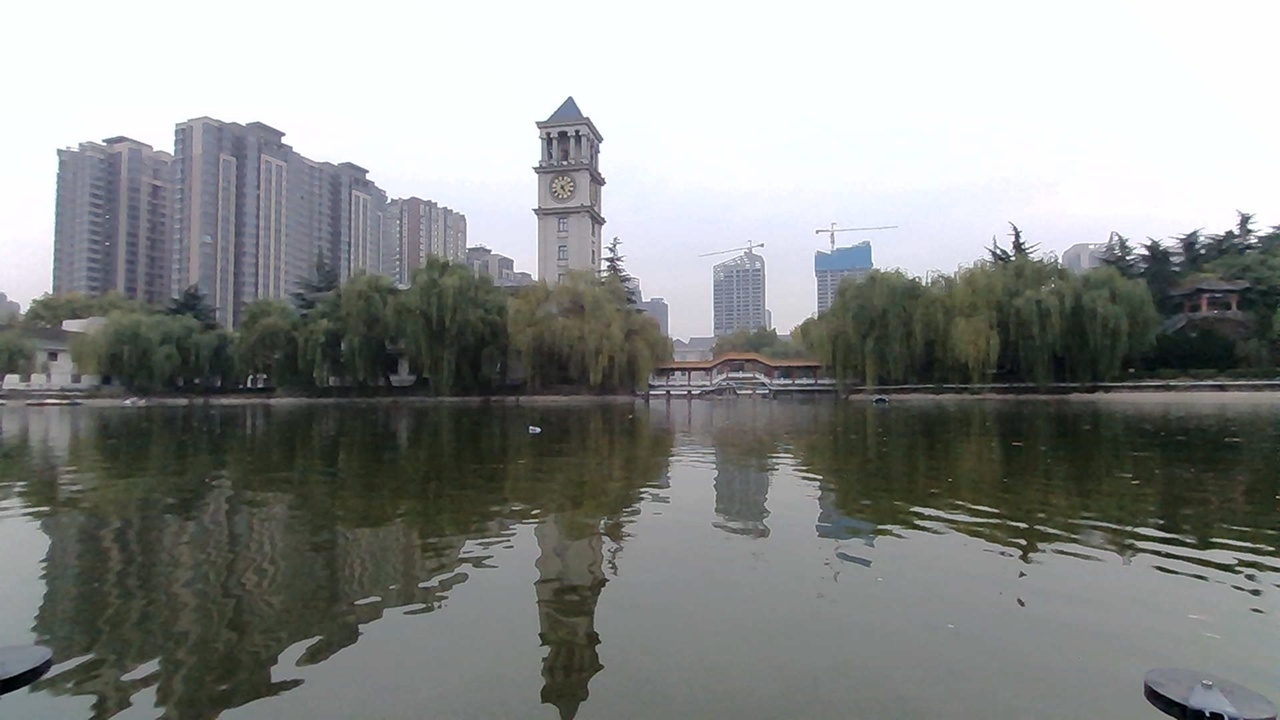bottle: (515, 415, 555, 443)
